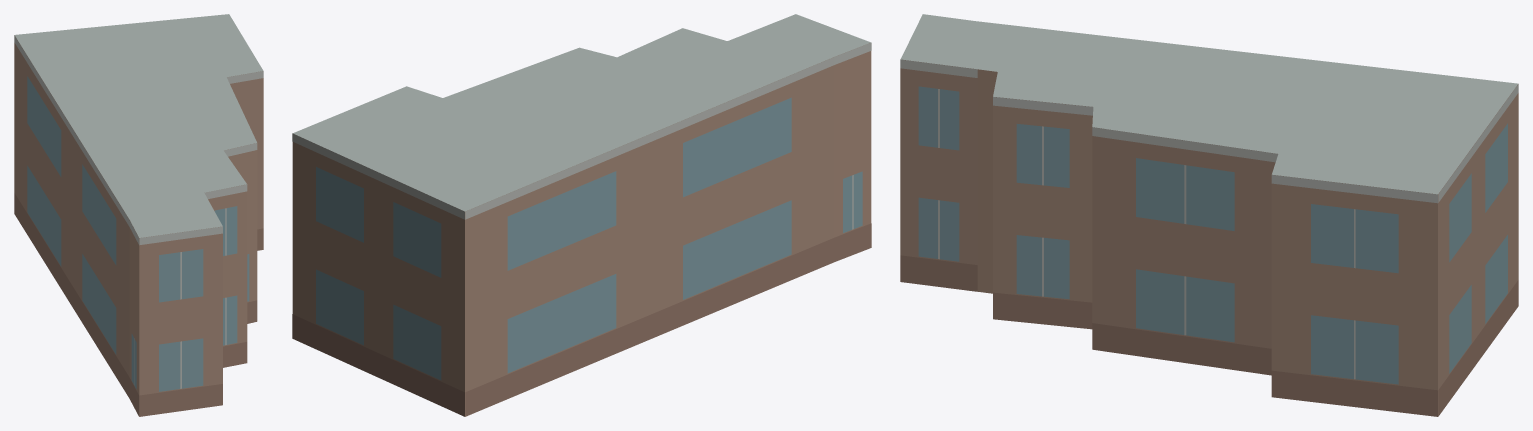
File: survey-upis-32870132.glb
The picture shows the model from 3 angles, left to right: view 1: azimuth 30°, elevation 25°; view 2: azimuth 150°, elevation 25°; view 3: azimuth 270°, elevation 25°; orthographic projection. The views are drawn at different scales.
Visible parts, largest first — view 1: survey-upis-32870132.tmp; view 2: survey-upis-32870132.tmp; view 3: survey-upis-32870132.tmp.
Boxes of the visible parts, left/top/right/bottom form: survey-upis-32870132.tmp: left=14, top=14, right=263, bottom=416; survey-upis-32870132.tmp: left=292, top=14, right=871, bottom=416; survey-upis-32870132.tmp: left=900, top=14, right=1518, bottom=416.
Size of the model in its own units: 10.62 by 6.1 by 15.37.
